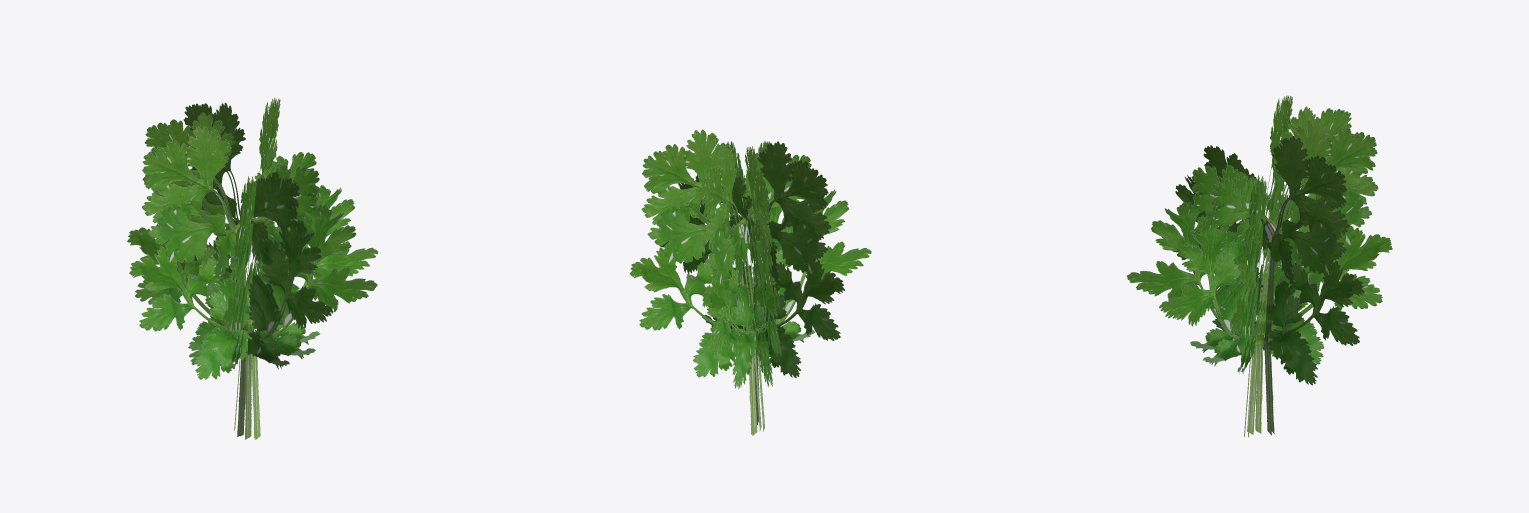
Rendered from Coriander.fbx.
The picture shows the model from 3 angles, left to right: view 1: azimuth 30°, elevation 25°; view 2: azimuth 150°, elevation 25°; view 3: azimuth 270°, elevation 25°; orthographic projection. The views are drawn at different scales.
Parts seen in each view (by area): view 1: Coriander.003; view 2: Coriander.003; view 3: Coriander.003.
Part boxes in pixels (box(x1,y1,x2,y2)): Coriander.003: box(127, 98, 378, 439); Coriander.003: box(629, 129, 871, 435); Coriander.003: box(1127, 95, 1392, 437).
Bounding box in the file's own units: 127 × 133 × 129.
